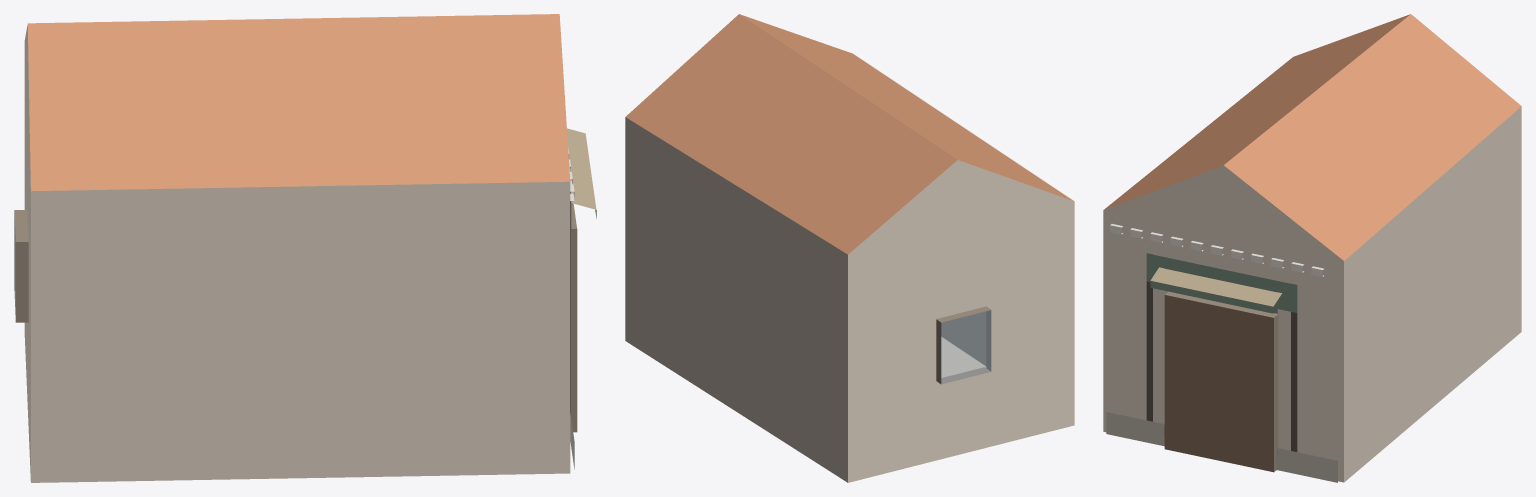
3 renders of one model, left to right at view 1: azimuth 30°, elevation 25°; view 2: azimuth 150°, elevation 25°; view 3: azimuth 270°, elevation 25°, orthographic. The views are drawn at different scales.
Visible parts, largest first — view 1: E-10; view 2: E-10; view 3: E-10.
Boxes of the visible parts, bbox=[...] form: E-10: bbox=[14, 14, 596, 482]; E-10: bbox=[625, 14, 1074, 482]; E-10: bbox=[1103, 14, 1521, 482].
Size of the model in its own units: 7.53 by 5.01 by 6.51.
